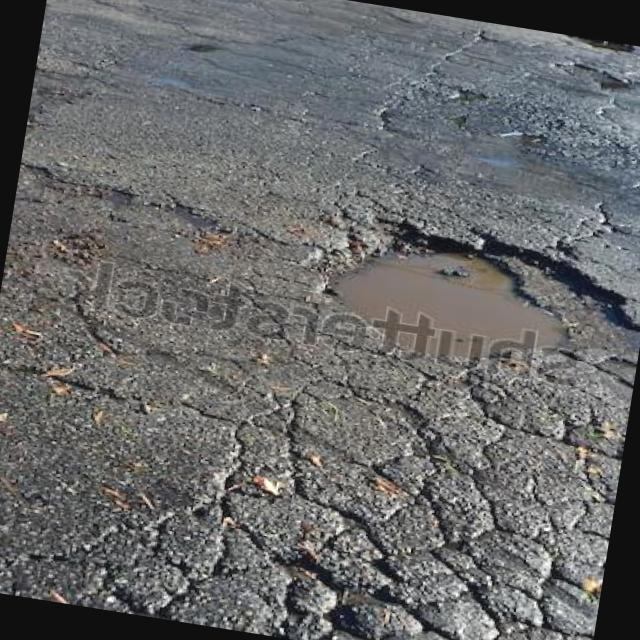Lubang: (312, 228, 621, 361), (557, 63, 633, 90), (569, 36, 635, 53)
Retak-Buaya: (4, 376, 627, 640)
